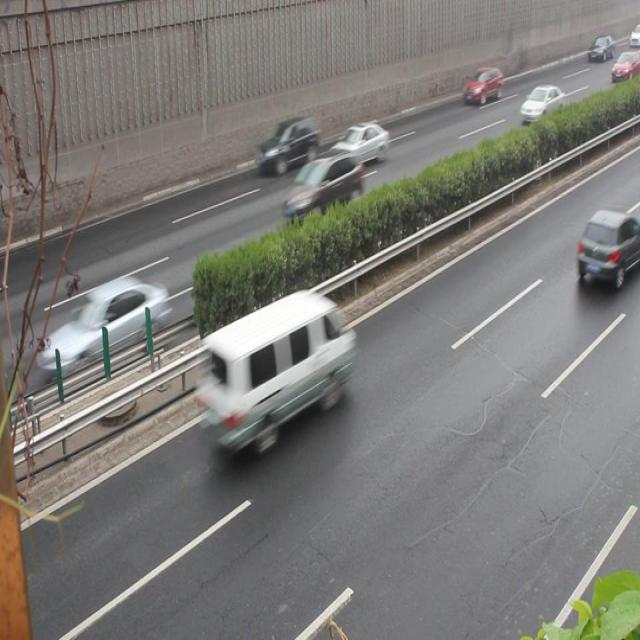car: (39, 277, 167, 382), (283, 149, 362, 220), (574, 210, 640, 288), (256, 114, 321, 173), (326, 120, 390, 168), (518, 83, 563, 126), (462, 66, 503, 106)
truck: (198, 289, 354, 453)
